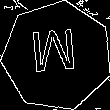M_S: (32, 29, 82, 83)
